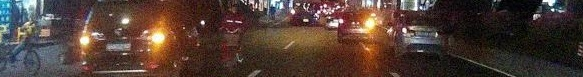L_light: (401, 26, 414, 33), (339, 18, 349, 24)
R_light: (364, 19, 375, 25), (435, 30, 442, 37)
T_light: (354, 13, 363, 15), (414, 19, 423, 20)
night-no: (400, 17, 442, 58)
night-right: (339, 11, 378, 43)
